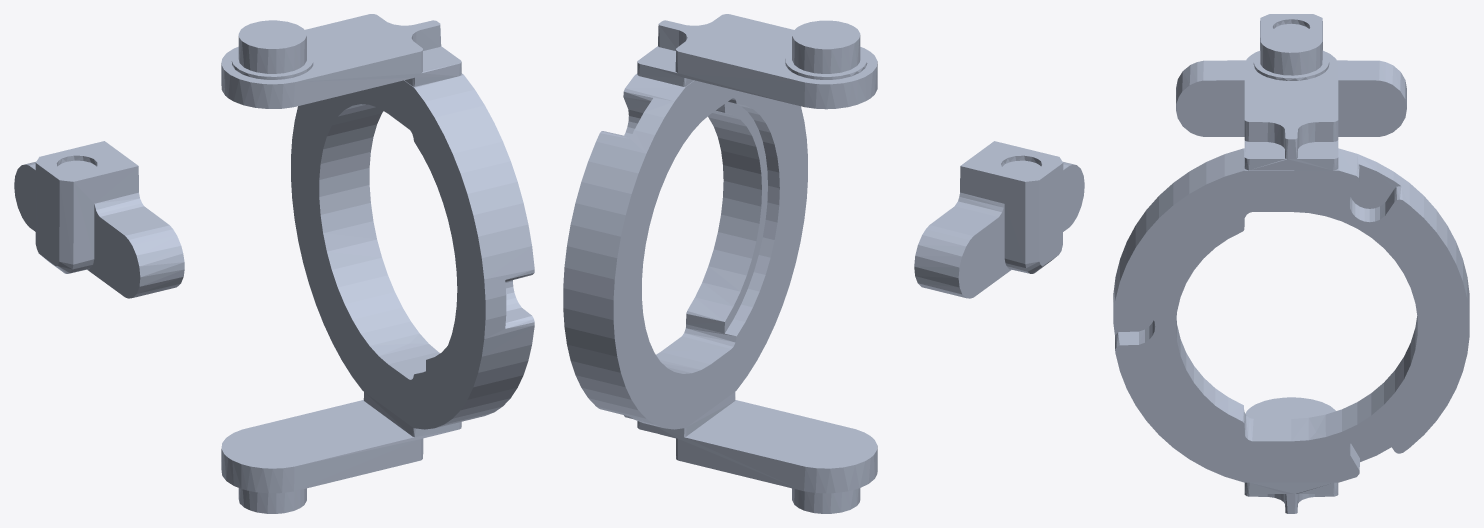
3 renders of one model, left to right at view 1: azimuth 30°, elevation 25°; view 2: azimuth 150°, elevation 25°; view 3: azimuth 270°, elevation 25°, orthographic. The views are drawn at different scales.
Parts seen in each view (by area): view 1: link6_02; view 2: link6_02; view 3: link6_02.
Part boxes in pixels (x1=…): link6_02: x1=14, y1=14, x2=534, y2=513; link6_02: x1=563, y1=14, x2=1084, y2=513; link6_02: x1=1113, y1=14, x2=1469, y2=513.
Bounding box in the file's own units: 0.066 × 0.075 × 0.0569.
